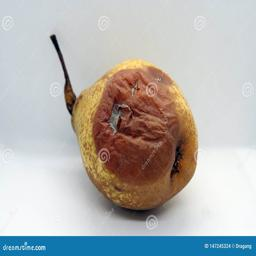Pear Rotten: (41, 34, 200, 210)
